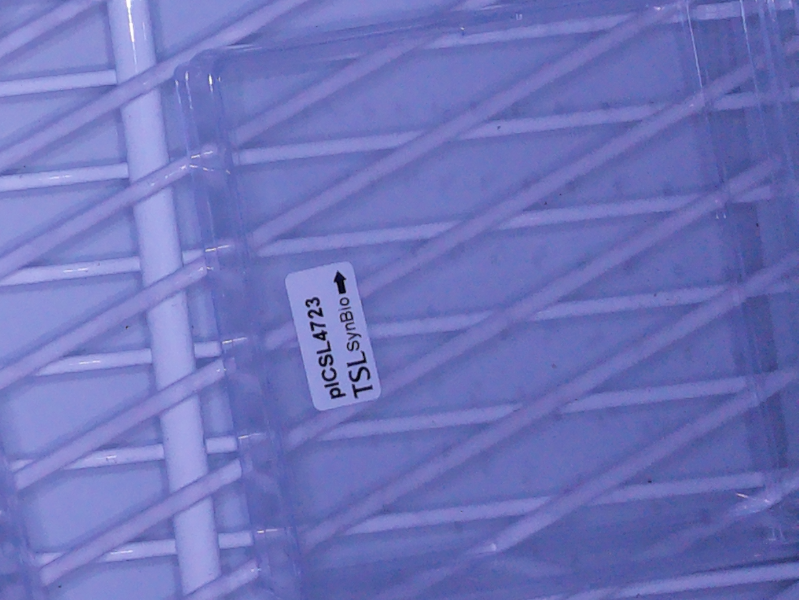plate: (174, 1, 799, 600)
